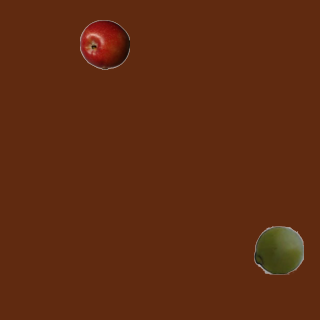Apple Braeburn: (79, 19, 129, 69)
Grape White 4: (253, 224, 303, 274)
